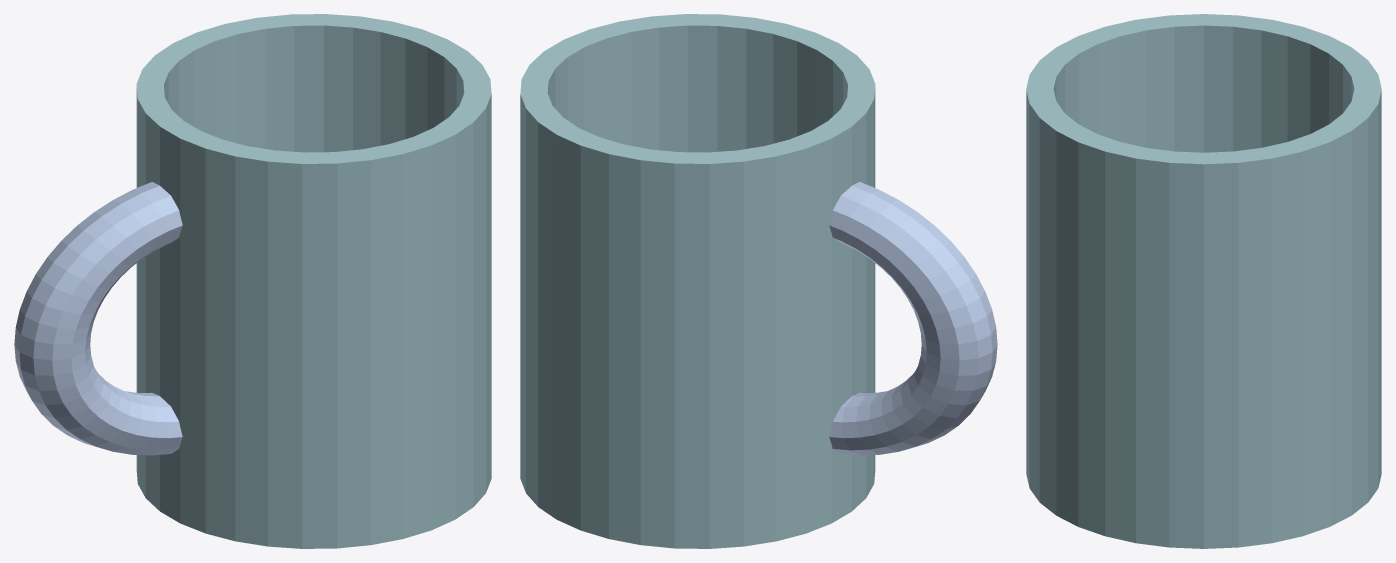
The model's file is mug.fbx.
3 renders of one model, left to right at view 1: azimuth 30°, elevation 25°; view 2: azimuth 150°, elevation 25°; view 3: azimuth 270°, elevation 25°, orthographic.
Visible parts, largest first — view 1: Cylinder, Torus; view 2: Cylinder, Torus; view 3: Cylinder.
Boxes of the visible parts, x1,y1,x2,y2 form: Cylinder: [136, 14, 491, 548]; Torus: [14, 182, 182, 455]; Cylinder: [520, 14, 875, 548]; Torus: [829, 182, 997, 455]; Cylinder: [1026, 14, 1381, 548].
Bounding box in the file's own units: 291 × 239 × 200.
